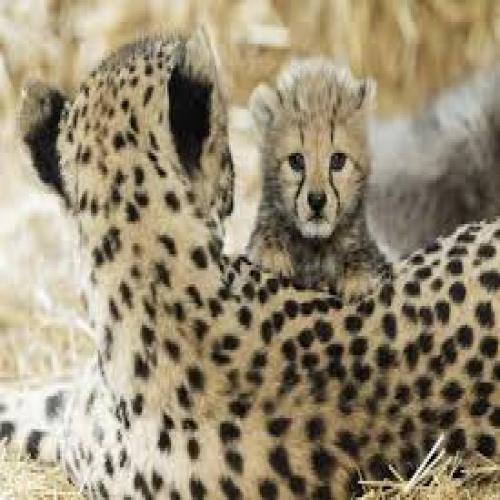cheetah-endangered: (0, 27, 500, 500), (244, 60, 386, 292)
